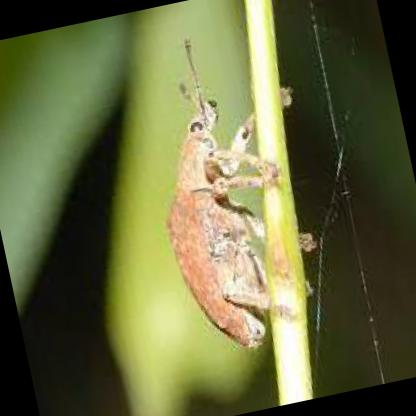ash weevil: (165, 40, 291, 351)
